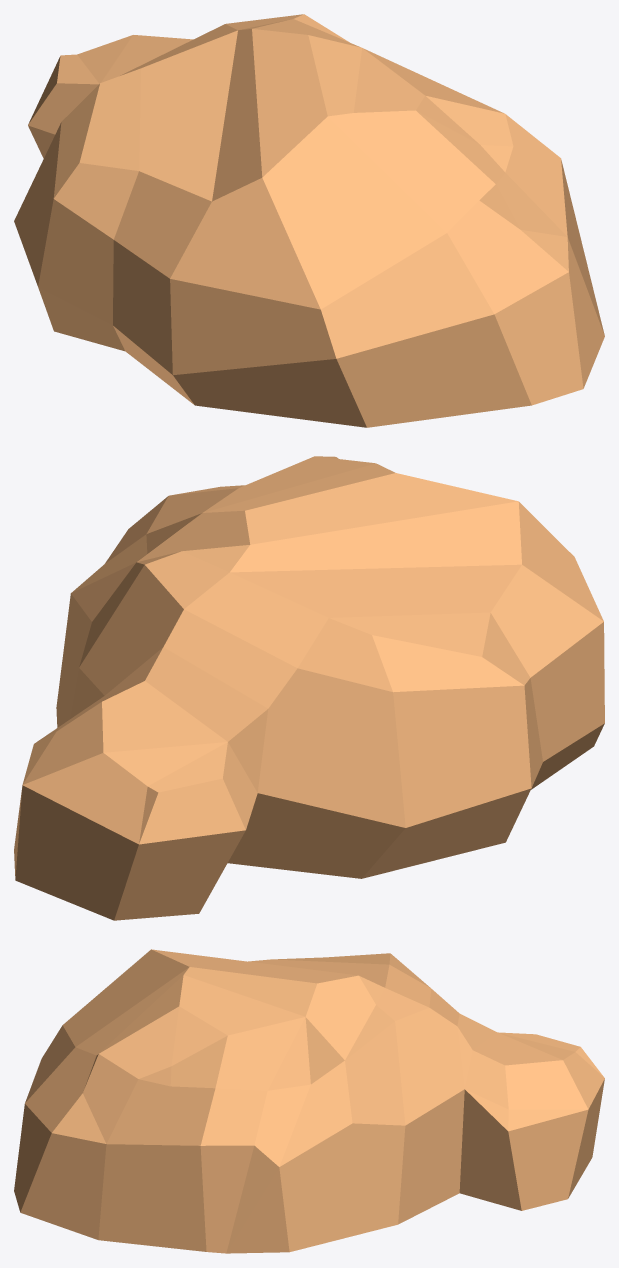
File: rock2.fbx
The picture shows the model from 3 angles, top to bottom: view 1: azimuth 30°, elevation 25°; view 2: azimuth 150°, elevation 25°; view 3: azimuth 270°, elevation 25°; orthographic projection. The views are drawn at different scales.
Visible parts, largest first — view 1: 平面; view 2: 平面; view 3: 平面.
Part boxes in pixels (<box>): 平面: <box>14,14,604,427</box>; 平面: <box>14,456,604,920</box>; 平面: <box>14,949,604,1253</box>.
Size of the model in its own units: 179 by 89.37 by 247.
